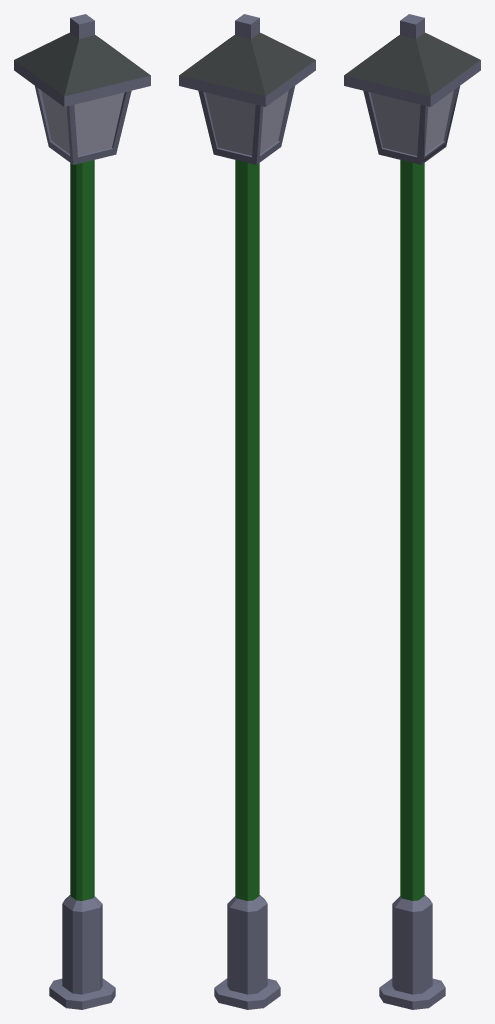
File: LampPost.fbx
3 renders of one model, left to right at view 1: azimuth 30°, elevation 25°; view 2: azimuth 150°, elevation 25°; view 3: azimuth 330°, elevation 25°, orthographic.
Visible parts, largest first — view 1: pCube187; view 2: pCube187; view 3: pCube187.
Boxes of the visible parts, bbox=[...] form: pCube187: bbox=[14, 14, 150, 1009]; pCube187: bbox=[179, 14, 315, 1009]; pCube187: bbox=[344, 14, 480, 1009].
Bounding box in the file's own units: 0.2987 × 3.22 × 0.2987.
